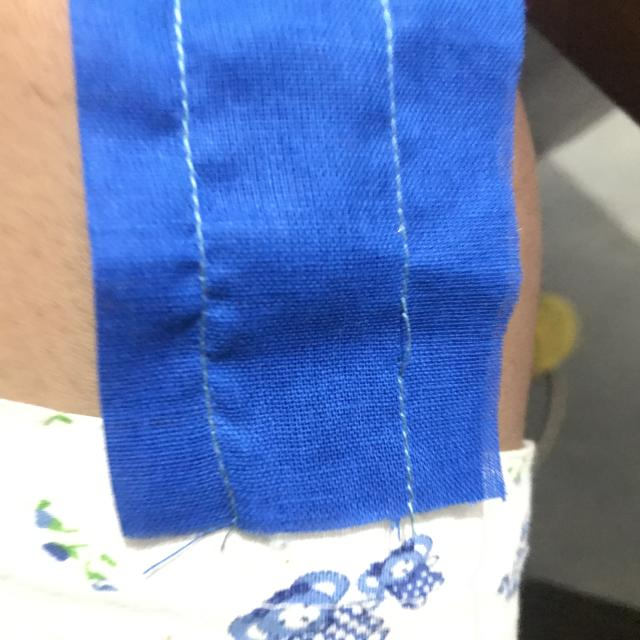skip: (378, 288, 433, 380)
